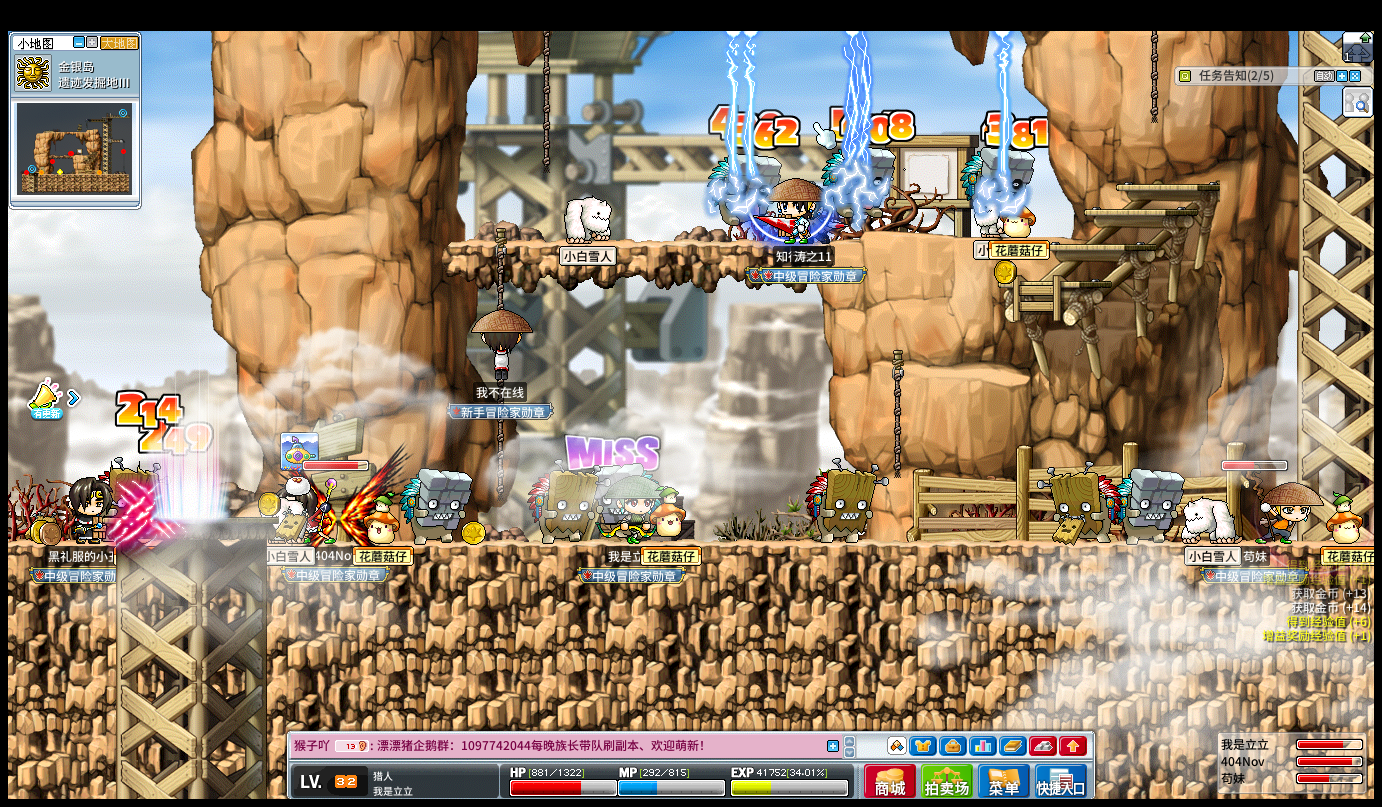floor: (446, 238, 832, 248), (922, 364, 1030, 384), (8, 539, 124, 550), (993, 280, 1108, 291), (1081, 205, 1196, 215), (939, 232, 1078, 240), (993, 279, 1110, 287), (1079, 207, 1192, 215), (1045, 243, 1155, 251), (1115, 184, 1218, 191)
monster: (822, 146, 896, 233), (803, 462, 882, 543), (526, 463, 605, 543), (1044, 461, 1118, 544), (706, 154, 776, 236), (961, 146, 1035, 223), (401, 468, 473, 545), (1117, 467, 1183, 543), (103, 463, 156, 534), (708, 154, 779, 192)
rope: (889, 349, 903, 480), (541, 30, 550, 174), (543, 30, 551, 176), (493, 227, 506, 310), (1148, 29, 1156, 120), (495, 418, 503, 496)
